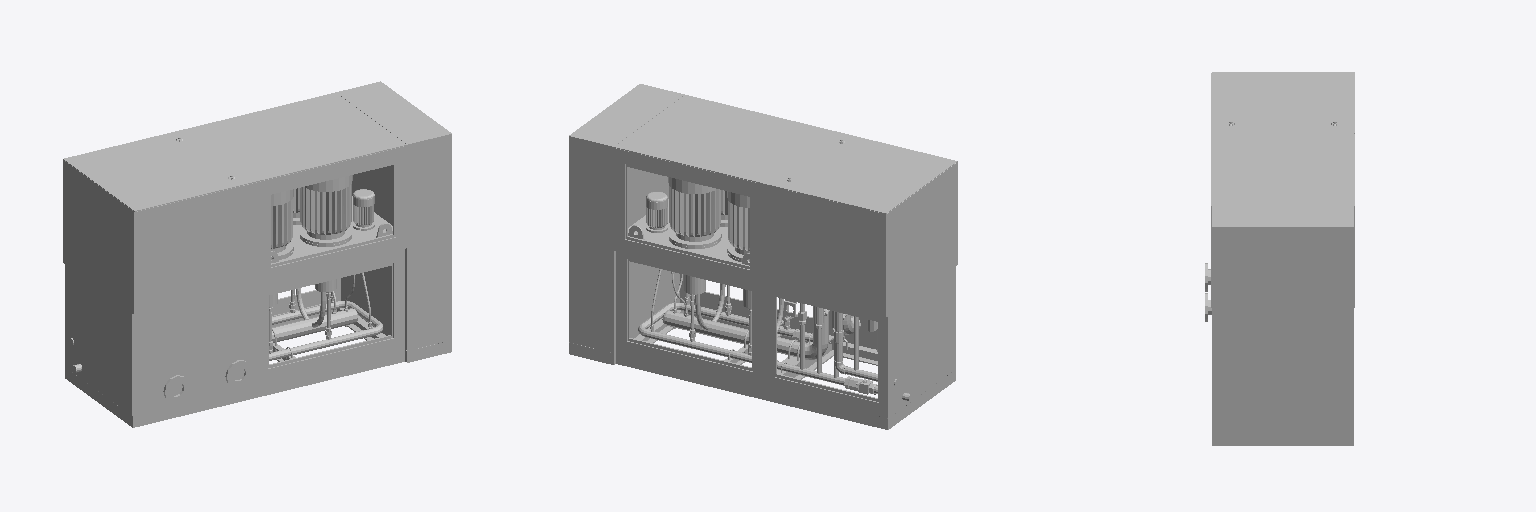
The model's file is 设备门.obj.
3 renders of one model, left to right at view 1: azimuth 30°, elevation 25°; view 2: azimuth 150°, elevation 25°; view 3: azimuth 270°, elevation 25°, orthographic.
Parts seen in each view (by area): view 1: Box005, Line001, Cylinder001, Cylinder004, Box003, ??006, Cylinder006; view 2: Box005, Line001, Cylinder006, Cylinder007, Box003, ??001, Cylinder001; view 3: Box005.
Part boxes in pixels (bbox=[...]): Box005: bbox=[63, 81, 451, 427]; Line001: bbox=[69, 301, 382, 402]; Cylinder001: bbox=[300, 175, 352, 339]; Cylinder004: bbox=[269, 189, 293, 353]; Box003: bbox=[176, 137, 392, 387]; ??006: bbox=[344, 189, 374, 328]; Cylinder006: bbox=[289, 188, 308, 319]; Box005: bbox=[569, 84, 957, 429]; Line001: bbox=[638, 303, 911, 401]; Cylinder006: bbox=[668, 177, 721, 341]; Cylinder007: bbox=[727, 191, 751, 355]; Box003: bbox=[617, 139, 887, 418]; ??001: bbox=[646, 192, 688, 331]; Cylinder001: bbox=[712, 190, 731, 321]; Box005: bbox=[1211, 72, 1354, 445].
Bounding box in the file's own units: 403 × 263 × 161.